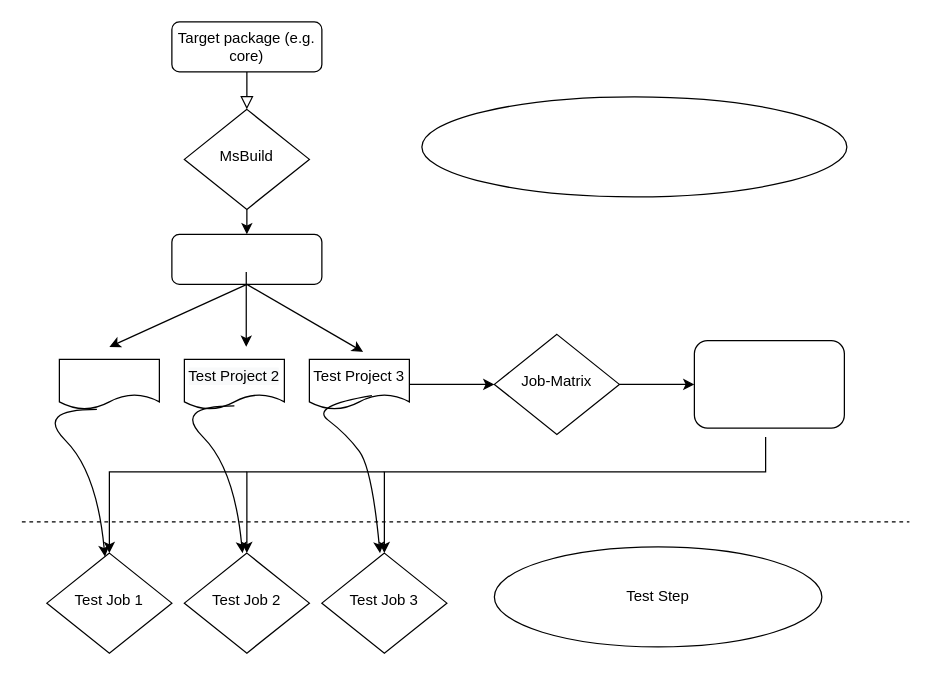
Some shapes in this 933 by 675 pixel diagram are drawn without their labels. The shapes that lost their labels are listed below. From the top down, each one's centre as x and y in pixels, then its label:
At pixel 634 146: "Pre-Generation Step".
At pixel 246 258: "All '.csproj' files which depend on target".
At pixel 108 383: "Test Project 1".
At pixel 768 383: "Add new attribute of test project shard in platform-matrix.json".
